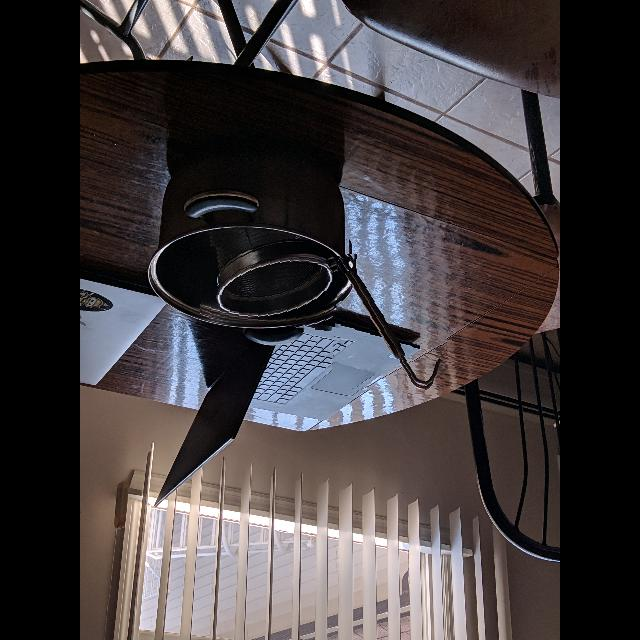Handle: (338, 254, 447, 396)
Strainer: (202, 257, 337, 322)
